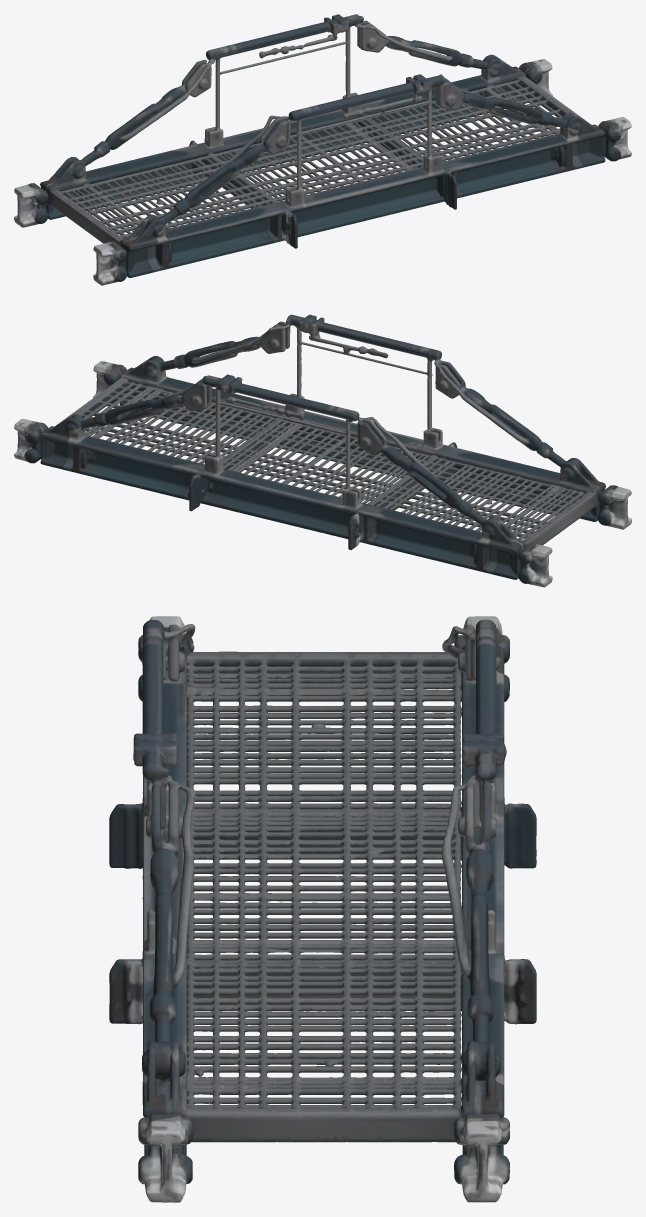
The model's file is gap_crossing_suspension_bridge.glb.
The picture shows the model from 3 angles, top to bottom: view 1: azimuth 30°, elevation 25°; view 2: azimuth 150°, elevation 25°; view 3: azimuth 270°, elevation 25°; orthographic projection. The views are drawn at different scales.
Parts seen in each view (by area): view 1: tripo_node_5c6c4b65-7ee9-43cc-b12f-28c2f623cffa; view 2: tripo_node_5c6c4b65-7ee9-43cc-b12f-28c2f623cffa; view 3: tripo_node_5c6c4b65-7ee9-43cc-b12f-28c2f623cffa.
Boxes of the visible parts, bbox=[...] form: tripo_node_5c6c4b65-7ee9-43cc-b12f-28c2f623cffa: bbox=[14, 14, 631, 285]; tripo_node_5c6c4b65-7ee9-43cc-b12f-28c2f623cffa: bbox=[14, 314, 631, 587]; tripo_node_5c6c4b65-7ee9-43cc-b12f-28c2f623cffa: bbox=[109, 616, 536, 1202].
Size of the model in its own units: 1 by 0.2327 by 0.3486.
Materials: 1 (1 with a texture image).
